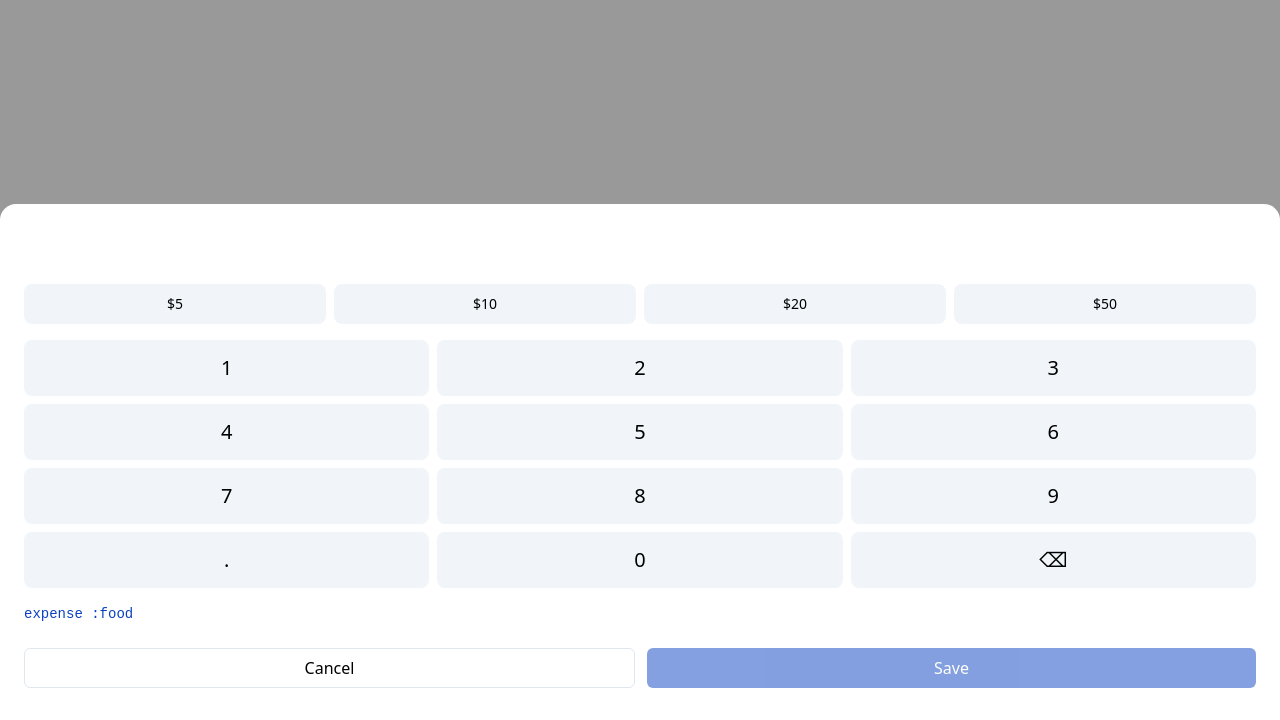
Test: HoleSheet › preview shows "expense 12:food" after tapping keypad 1 then 2
Click the button "1" at (227, 368), box x1=24 y1=340 x2=429 y2=396
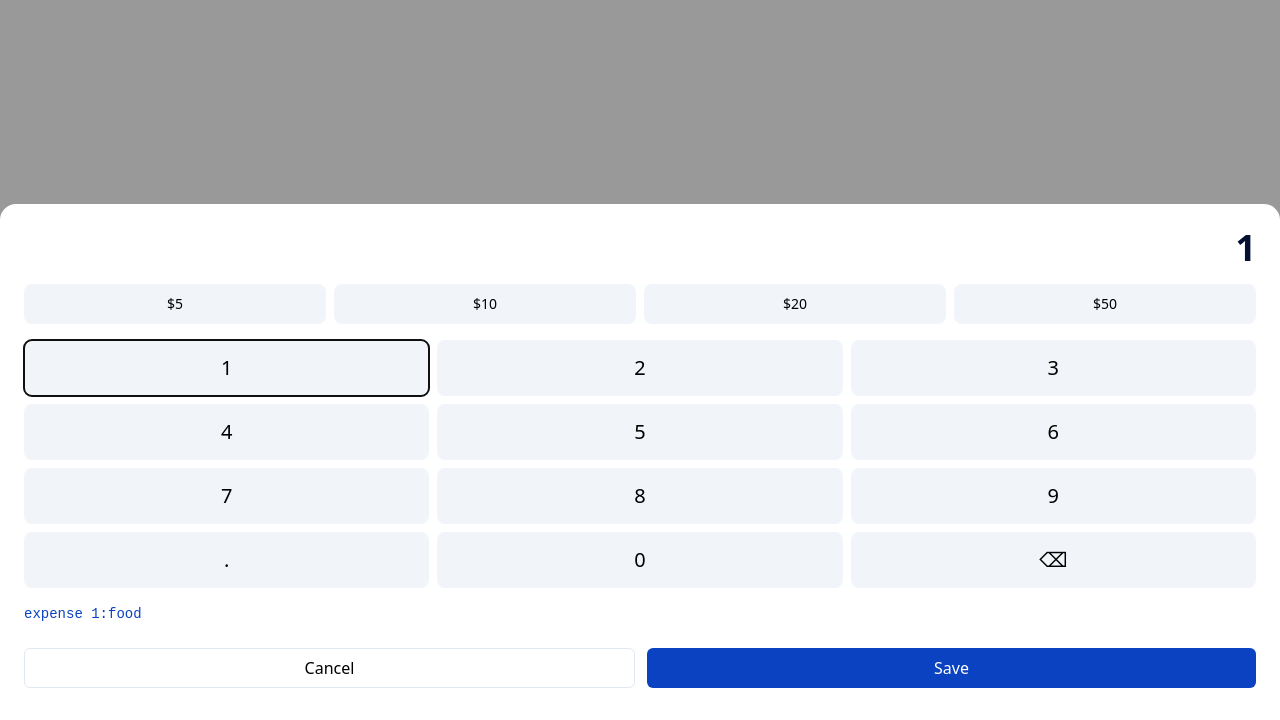
Click the button "2" at (640, 368), box x1=437 y1=340 x2=843 y2=396
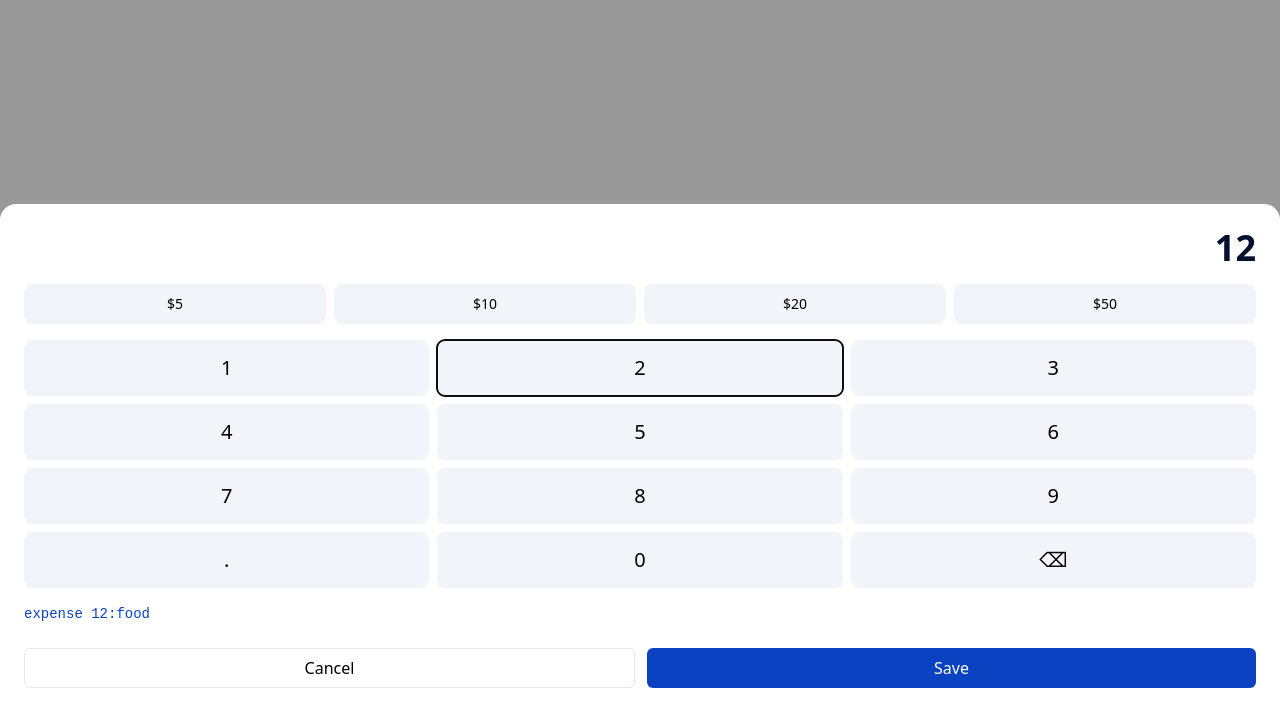
Now the text "expense 12:food" is shown, box x1=24 y1=606 x2=150 y2=622
